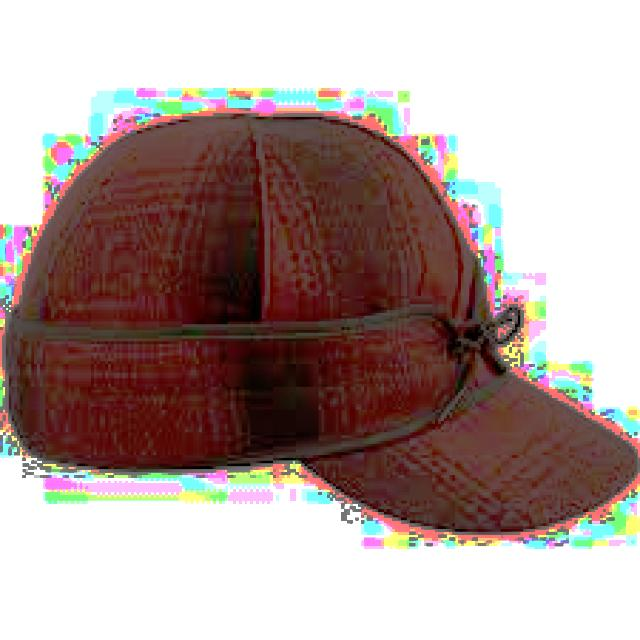TOPI: (0, 105, 637, 540)
